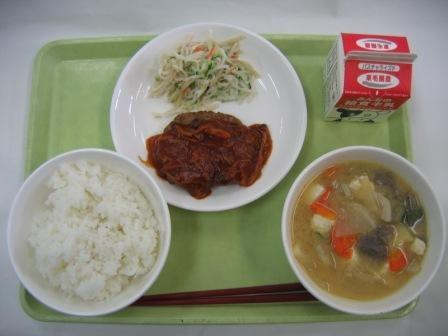Meat: (143, 113, 285, 206)
Milk: (324, 33, 423, 128)
Rice: (12, 156, 167, 305)
Salad: (150, 37, 263, 110)
Soups: (289, 154, 440, 309)
